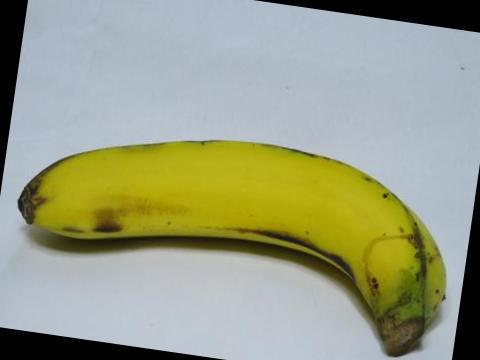freshripe: (3, 118, 463, 358)
